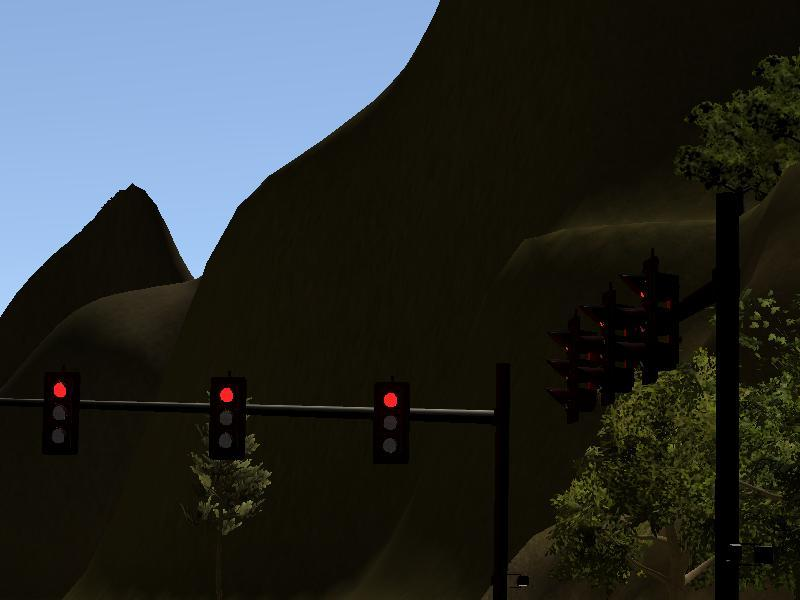Red: (45, 377, 81, 465), (374, 381, 411, 465), (211, 377, 246, 459)
